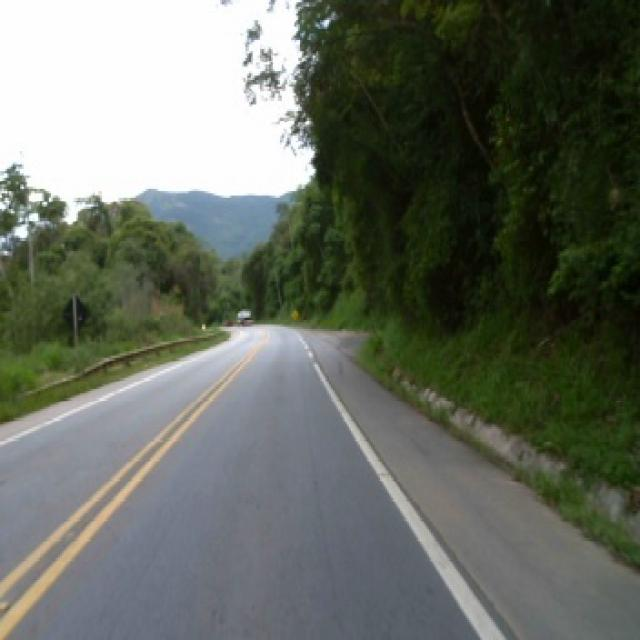Poth-hole: (0, 598, 11, 614)
